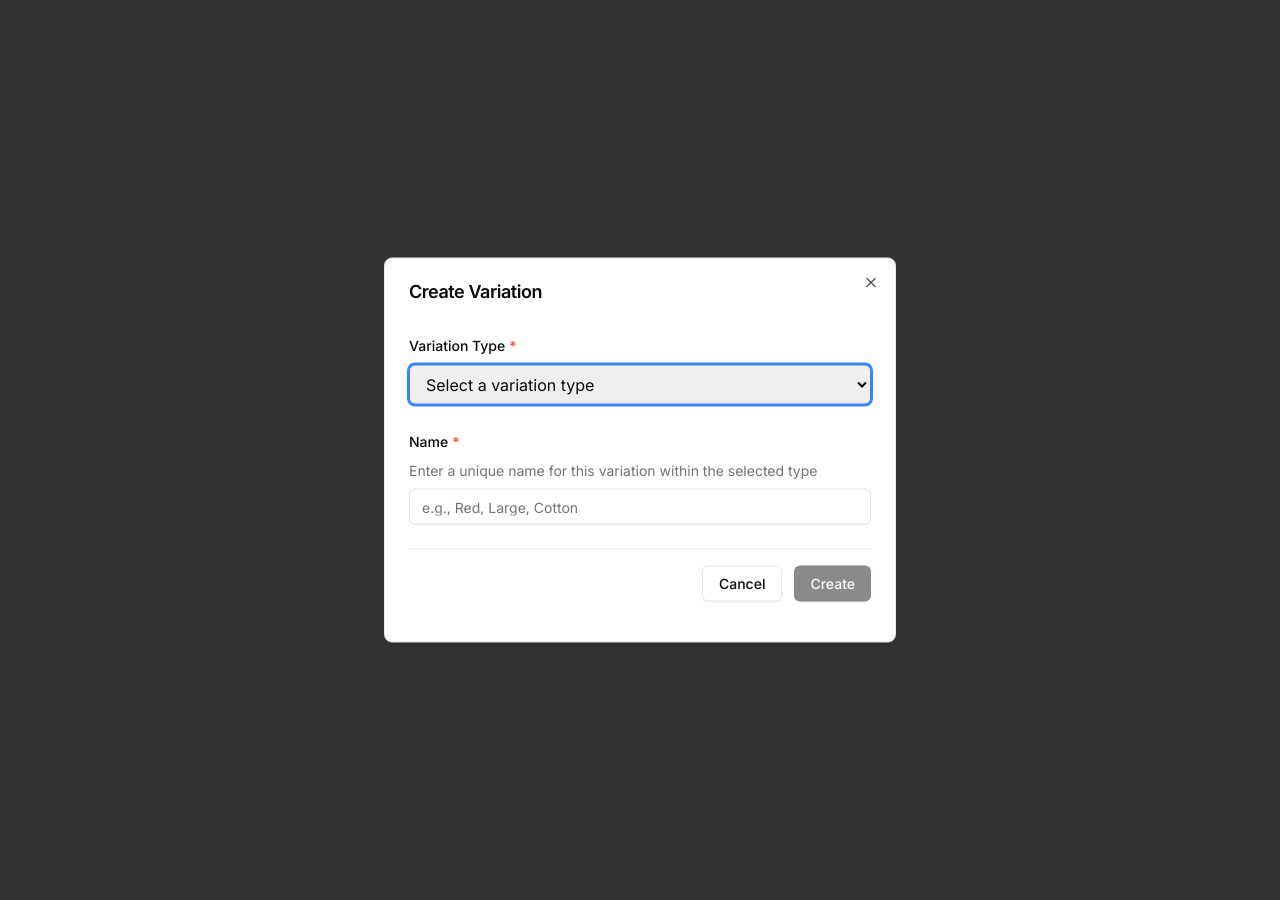
it: VariationForm › disables submit button while submitting
Select "Color" in the dropdown labelled "Variation Type*" at (640, 384), box [409, 364, 871, 404]
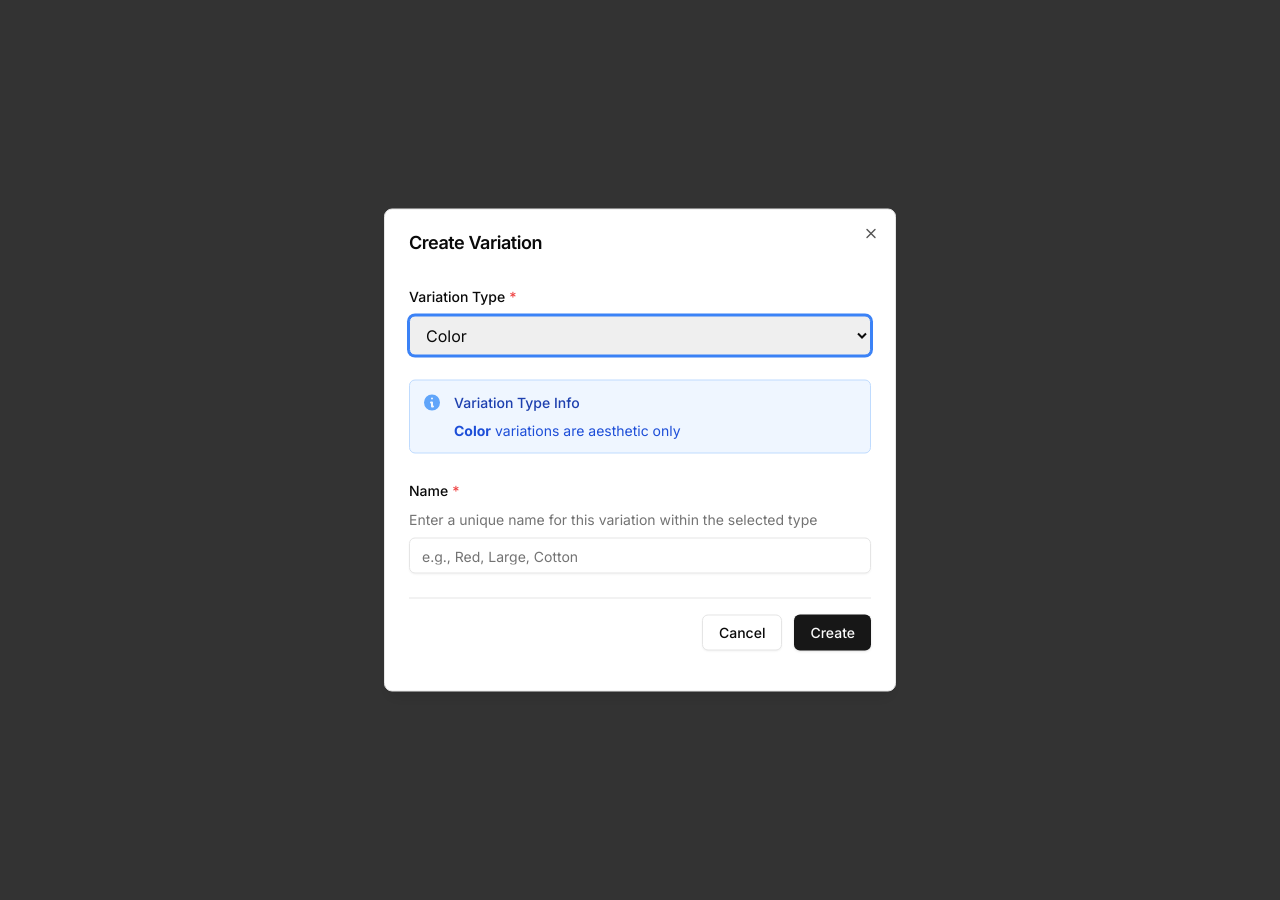
Type "Red" into the field labelled "Name*" at (640, 556), box [409, 538, 871, 574]
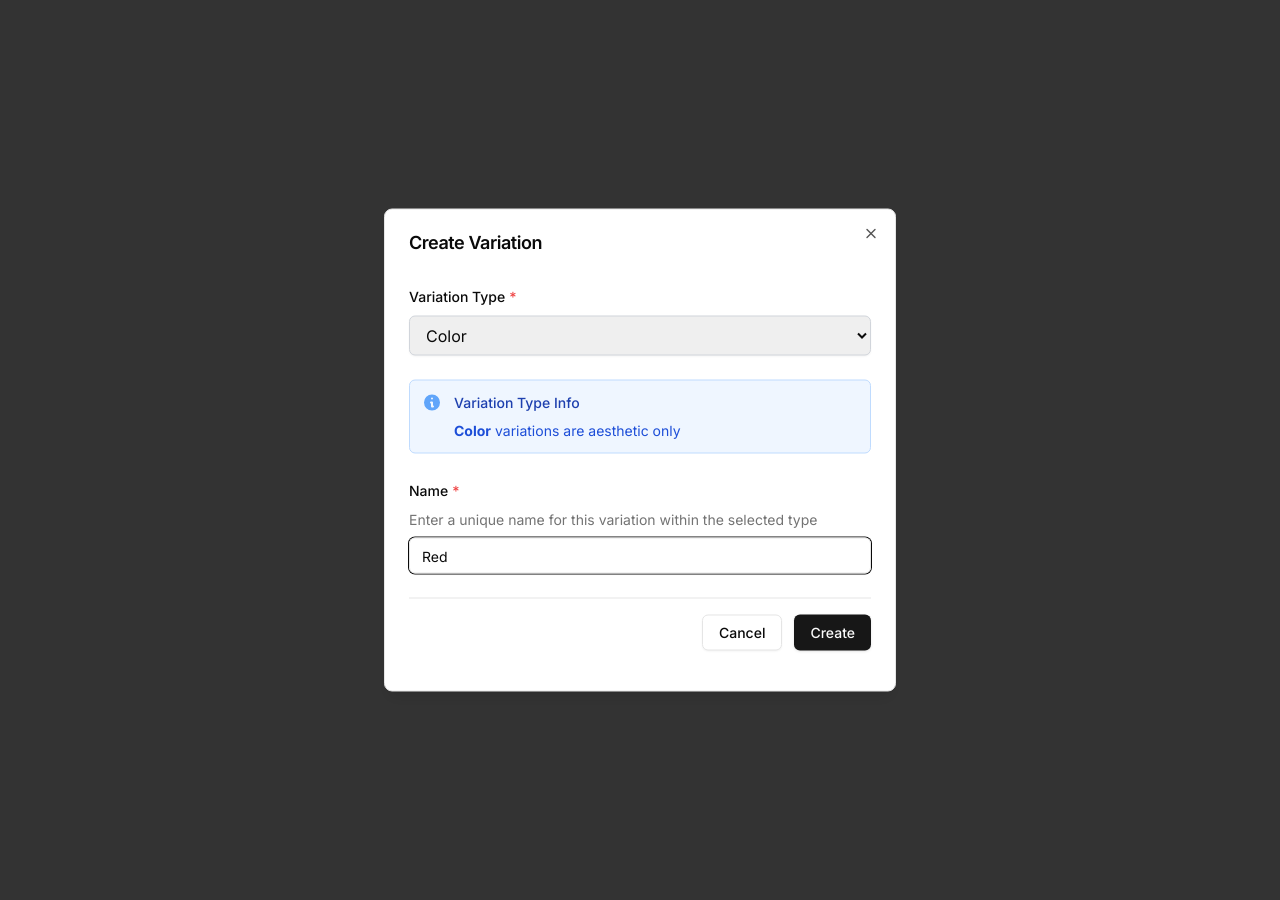
Click the button "Create" at (833, 632), box [794, 614, 871, 650]
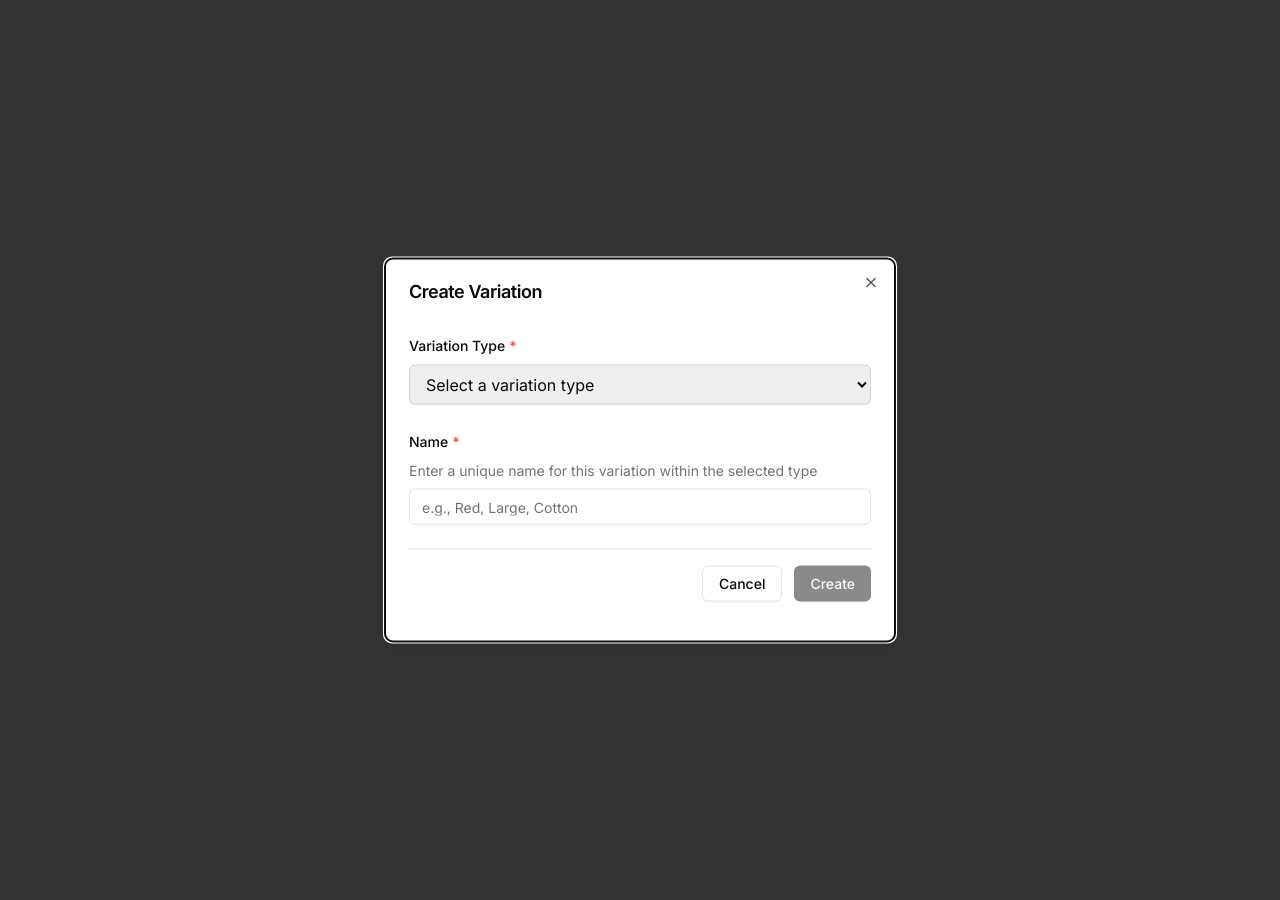
Check: the button named "saving" is disabled, box [794, 566, 871, 602]
